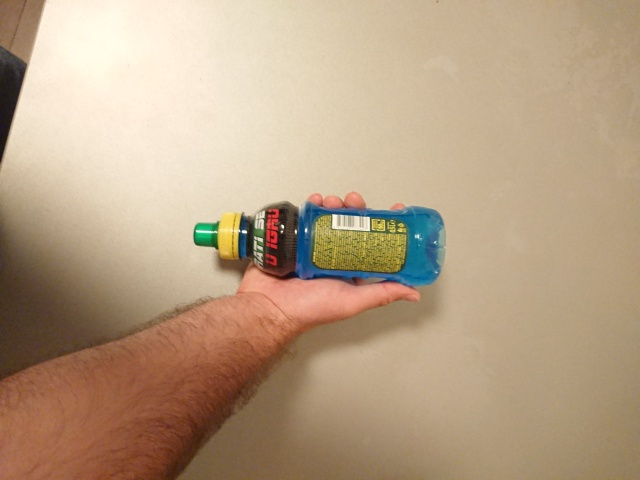Vindi Iso Sport Forest Strawberries 500mL: (191, 198, 447, 287)
